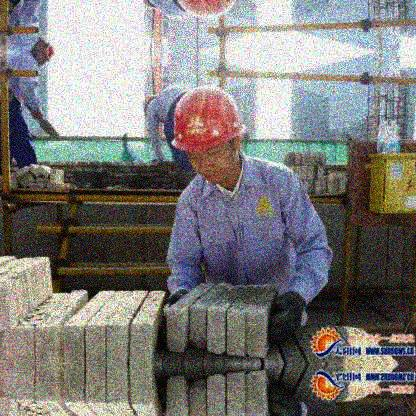helmet: (171, 85, 246, 181)
